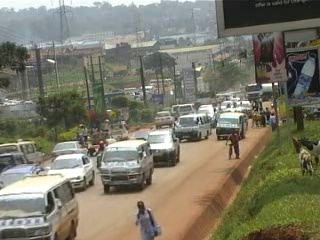Car: (42, 154, 97, 193), (0, 160, 49, 200), (48, 136, 89, 167), (1, 148, 34, 174), (150, 104, 176, 131), (194, 103, 220, 130), (130, 128, 162, 146)
Motorcycle: (91, 140, 110, 167), (171, 118, 181, 138)
